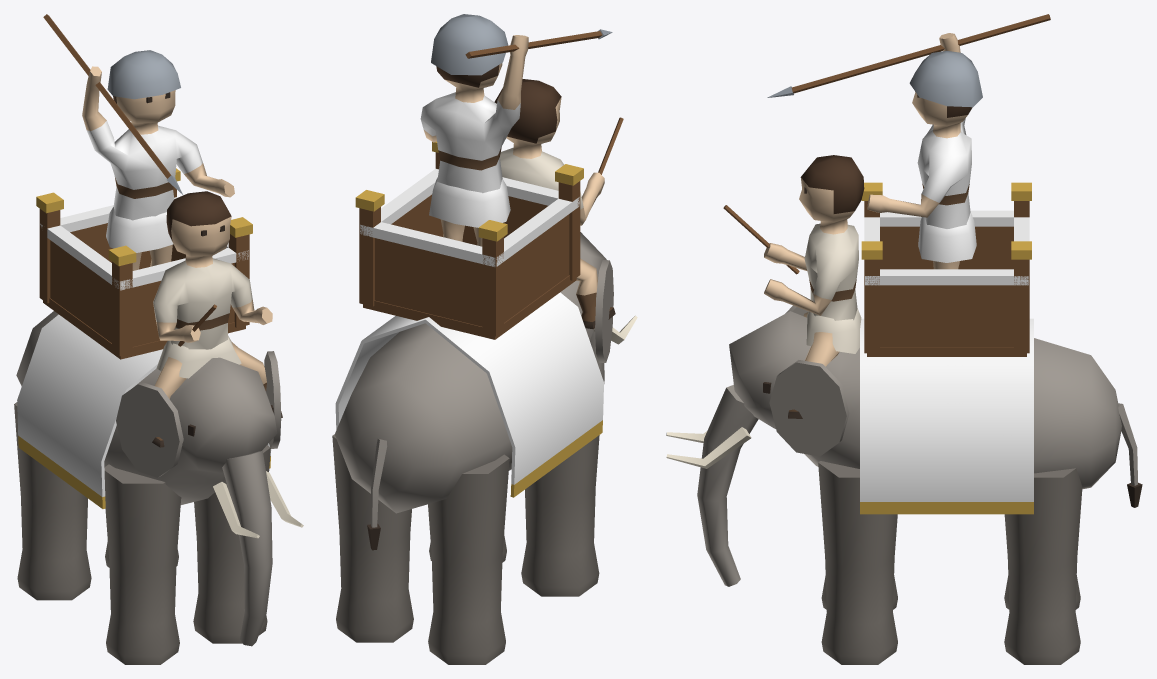
File: ele.glb
The picture shows the model from 3 angles, left to right: view 1: azimuth 30°, elevation 25°; view 2: azimuth 150°, elevation 25°; view 3: azimuth 270°, elevation 25°; orthographic projection. The views are drawn at different scales.
Parts seen in each view (by area): view 1: ele; view 2: ele; view 3: ele.
Boxes of the visible parts, x1=… form: ele: x1=14, y1=14, x2=303, y2=664; ele: x1=332, y1=14, x2=637, y2=664; ele: x1=666, y1=14, x2=1142, y2=664.
Bounding box in the file's own units: 1.17 × 3.75 × 2.74.
